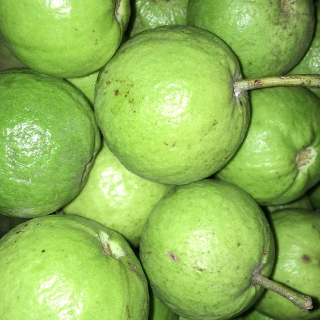oi: (95, 25, 253, 183), (140, 180, 275, 315)
